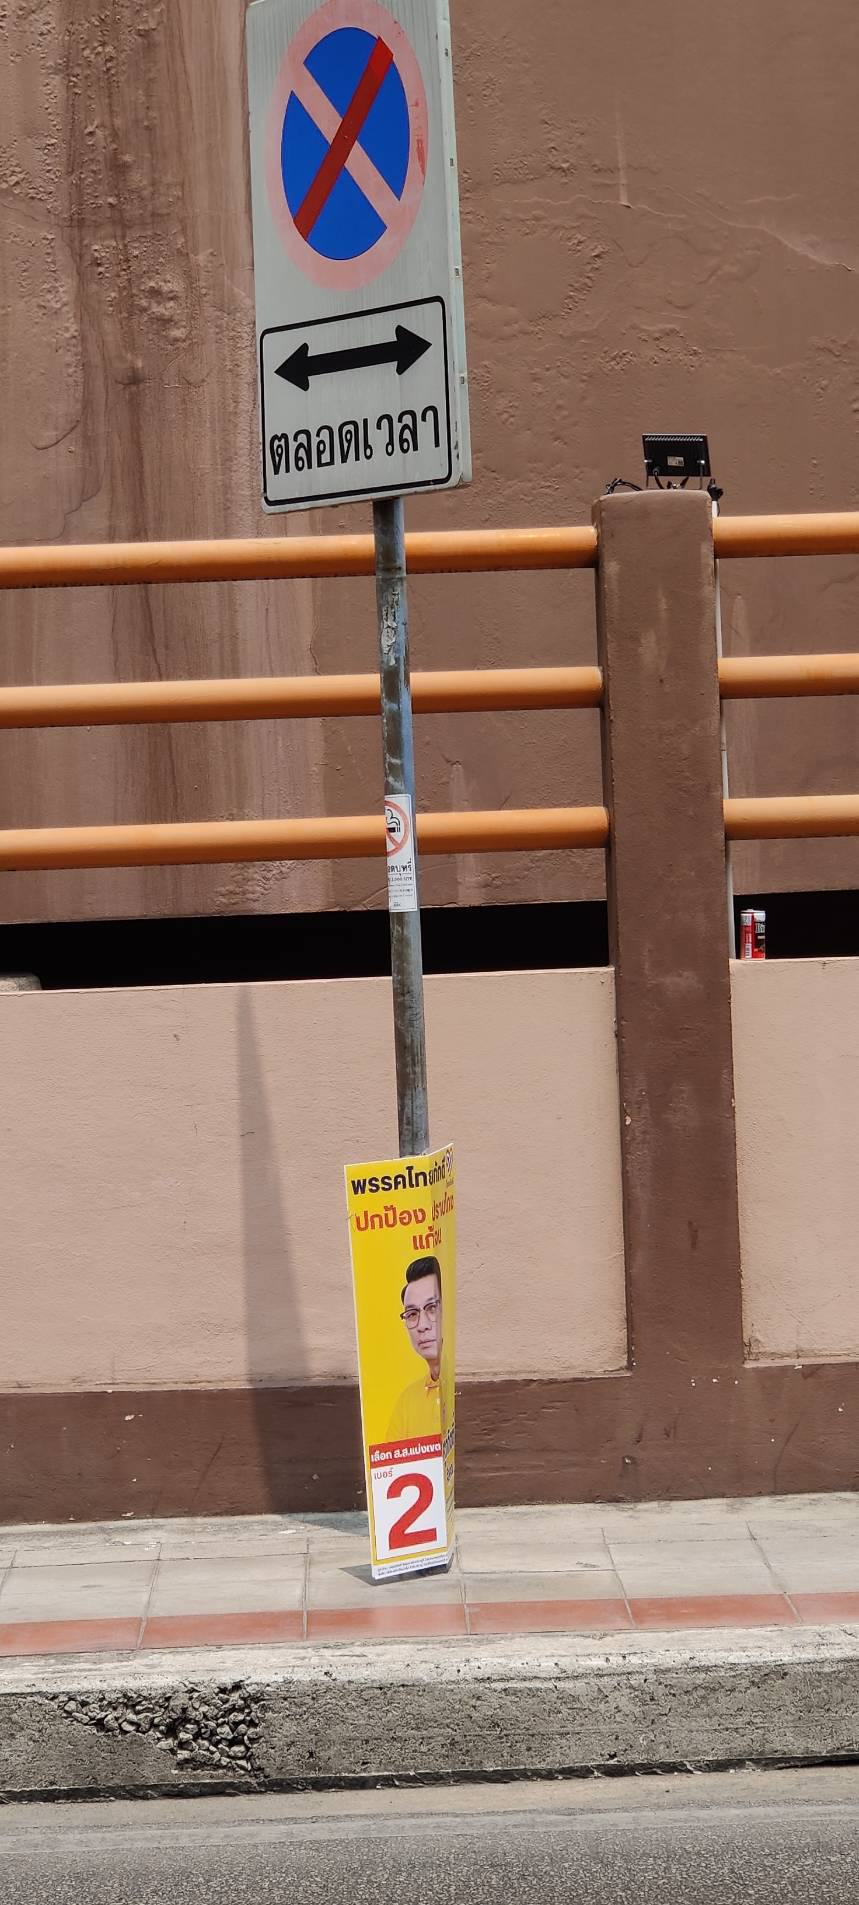Banner: (337, 1144, 477, 1598)
